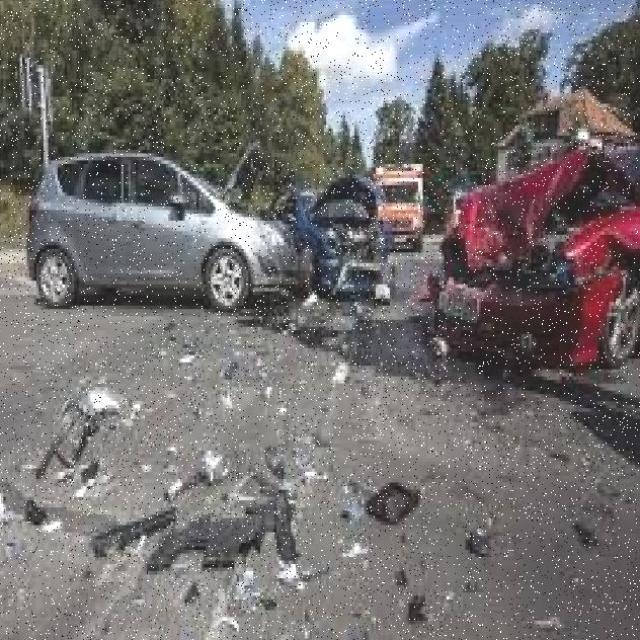accident: (158, 120, 401, 330), (422, 139, 640, 364)
